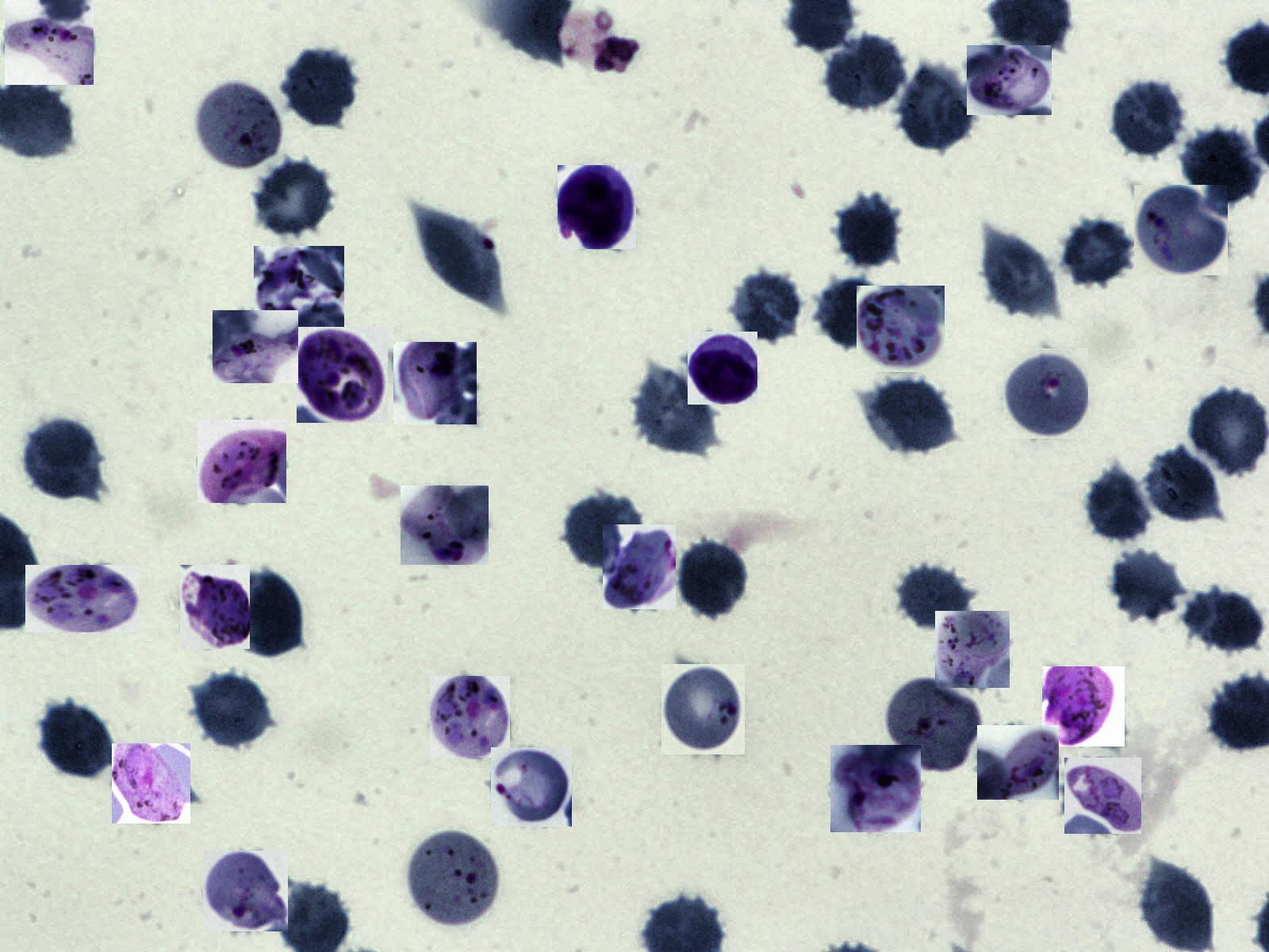Infected: (404, 828, 500, 931), (887, 678, 985, 773), (297, 327, 388, 423), (1134, 185, 1228, 275), (830, 745, 921, 832), (1003, 348, 1088, 439), (25, 565, 140, 632), (201, 83, 284, 175), (857, 286, 945, 372), (661, 664, 745, 754), (6, 0, 94, 85), (197, 420, 286, 503), (254, 246, 344, 328), (401, 486, 489, 565), (393, 342, 477, 424), (203, 850, 288, 931), (1042, 666, 1125, 747), (430, 676, 510, 758), (558, 165, 636, 249), (491, 747, 572, 827), (112, 743, 190, 823), (213, 310, 298, 383), (603, 525, 676, 610), (977, 725, 1059, 800), (967, 45, 1052, 115), (180, 565, 250, 649), (1064, 758, 1141, 834), (935, 612, 1010, 689), (688, 332, 757, 405)
Uninfected: (418, 209, 498, 302), (633, 370, 717, 455), (1190, 389, 1269, 477), (980, 232, 1059, 318), (1143, 858, 1215, 952), (252, 156, 335, 237), (867, 375, 953, 453), (564, 489, 646, 570), (900, 66, 975, 152), (23, 420, 103, 500), (1143, 446, 1222, 525), (824, 34, 905, 111), (1109, 78, 1185, 160), (1183, 127, 1261, 206), (231, 574, 305, 656), (1112, 546, 1188, 625), (676, 539, 750, 620), (815, 275, 891, 353), (834, 188, 907, 269), (40, 704, 116, 781), (285, 46, 357, 127), (196, 671, 270, 749), (892, 562, 970, 632), (732, 272, 805, 344), (1083, 469, 1153, 544), (1180, 589, 1263, 651), (1061, 219, 1135, 287)
